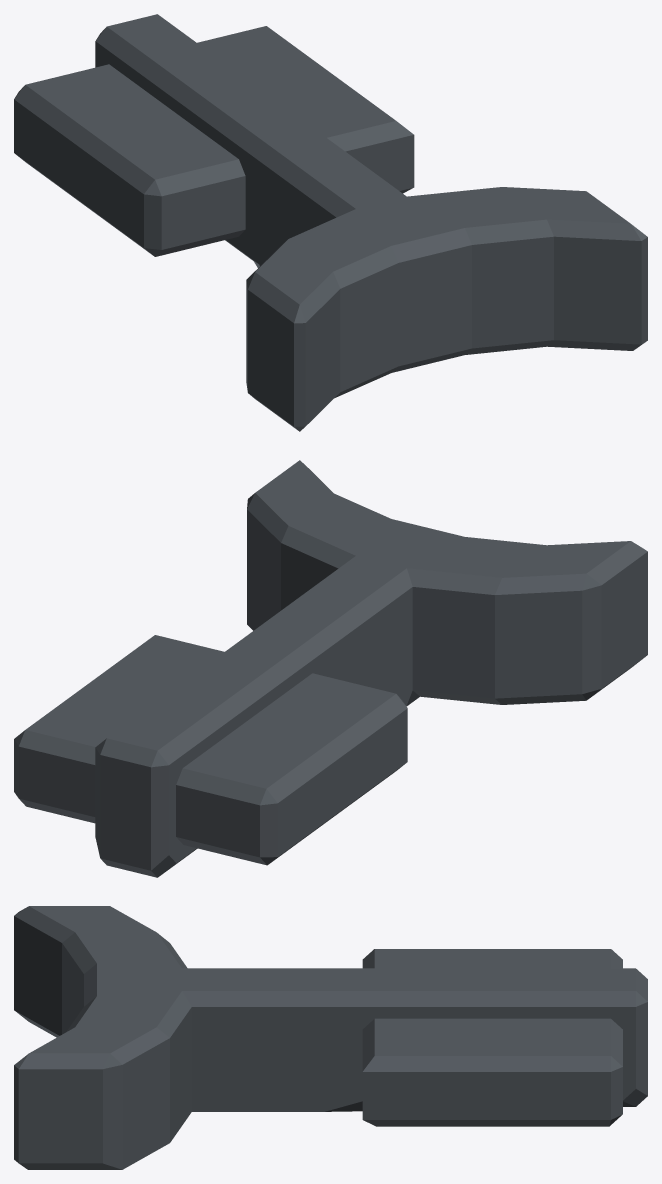
The model's file is Mothership_02_Detail_8.fbx.
The picture shows the model from 3 angles, top to bottom: view 1: azimuth 30°, elevation 25°; view 2: azimuth 150°, elevation 25°; view 3: azimuth 270°, elevation 25°; orthographic projection. The views are drawn at different scales.
Parts seen in each view (by area): view 1: Mothership_02_Detail_8; view 2: Mothership_02_Detail_8; view 3: Mothership_02_Detail_8.
Part boxes in pixels (x1=…): Mothership_02_Detail_8: x1=14, y1=14, x2=647, y2=431; Mothership_02_Detail_8: x1=14, y1=460, x2=647, y2=877; Mothership_02_Detail_8: x1=14, y1=906, x2=647, y2=1169.
Bounding box in the file's own units: 226 × 77.63 × 385.
Materials: 1 (1 with a texture image).
